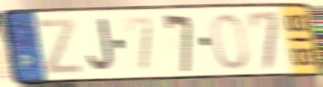7: (245, 9, 281, 72), (161, 12, 194, 74), (123, 14, 155, 73)
J: (86, 16, 116, 74)
O: (209, 12, 250, 71)
Z: (37, 17, 83, 76)
